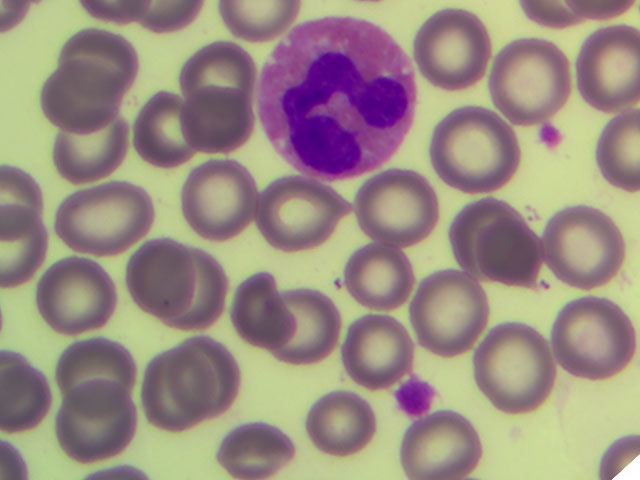Platelets: (398, 374, 434, 426), (537, 119, 564, 149)
RBC: (45, 33, 136, 125), (34, 98, 125, 190), (61, 171, 152, 263), (31, 247, 122, 339), (135, 241, 226, 333), (142, 341, 233, 433), (415, 2, 491, 90), (493, 34, 569, 122), (438, 105, 514, 193), (361, 160, 437, 248), (342, 236, 418, 324), (413, 274, 489, 362), (481, 331, 557, 419), (557, 294, 633, 382), (547, 201, 623, 289), (440, 190, 516, 278), (1, 168, 51, 292), (141, 1, 295, 39), (302, 385, 381, 454), (335, 316, 414, 385), (272, 295, 351, 364), (223, 276, 302, 345), (258, 176, 337, 245), (186, 164, 265, 233), (122, 98, 201, 167), (178, 88, 257, 157), (185, 43, 264, 112), (54, 325, 134, 384), (55, 387, 135, 446), (214, 419, 294, 478), (402, 413, 476, 476), (584, 29, 640, 112), (584, 102, 640, 185), (1, 343, 58, 422)
WBC: (256, 13, 418, 179)
